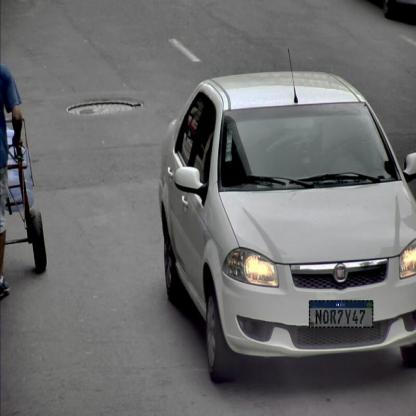PlacaM: (309, 300, 373, 328)
